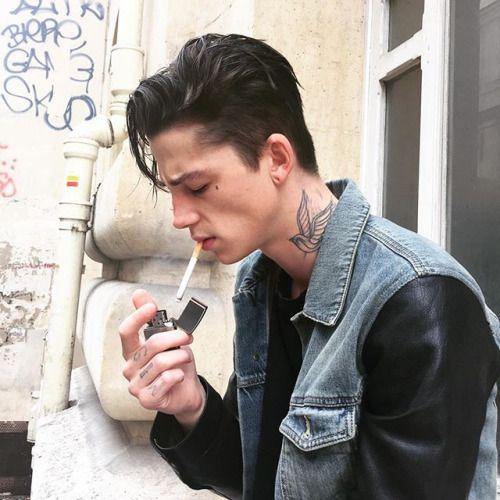cigarette: (177, 240, 203, 303)
